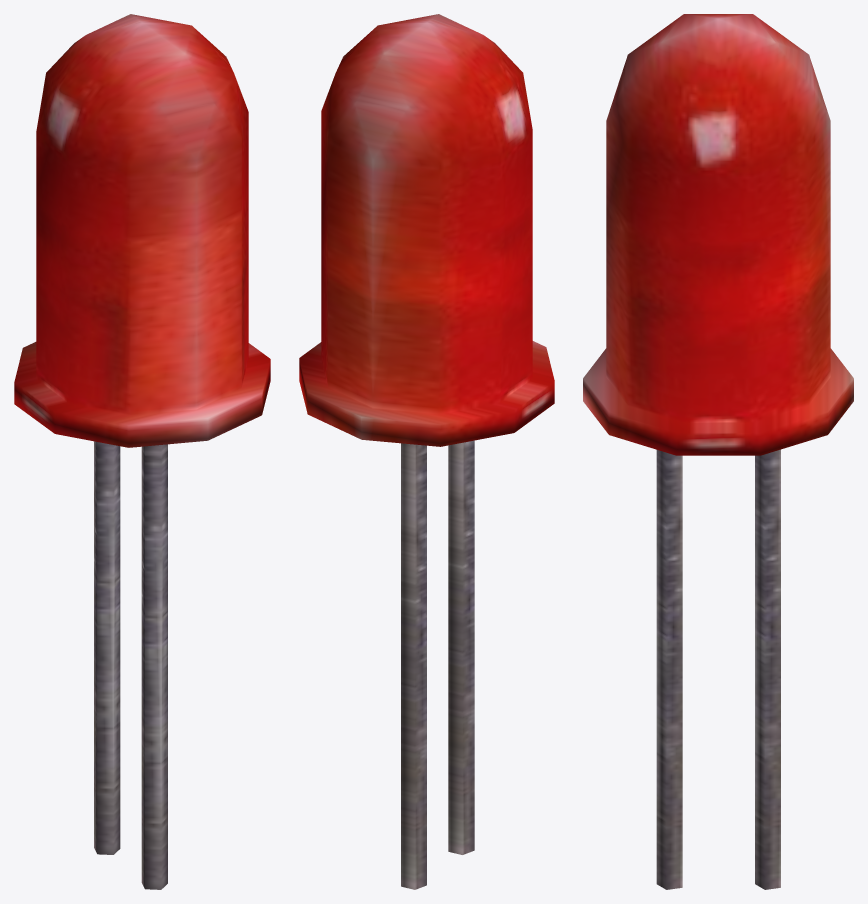
The model's file is led_red.fbx.
3 renders of one model, left to right at view 1: azimuth 30°, elevation 25°; view 2: azimuth 150°, elevation 25°; view 3: azimuth 270°, elevation 25°, orthographic. The views are drawn at different scales.
Visible parts, largest first — view 1: Icosphere; view 2: Icosphere; view 3: Icosphere.
Part boxes in pixels (left/top/right/bottom): Icosphere: left=14, top=14, right=270, bottom=889; Icosphere: left=299, top=14, right=554, bottom=889; Icosphere: left=583, top=14, right=853, bottom=889.
Size of the model in its own units: 29.41 by 110 by 30.92.
